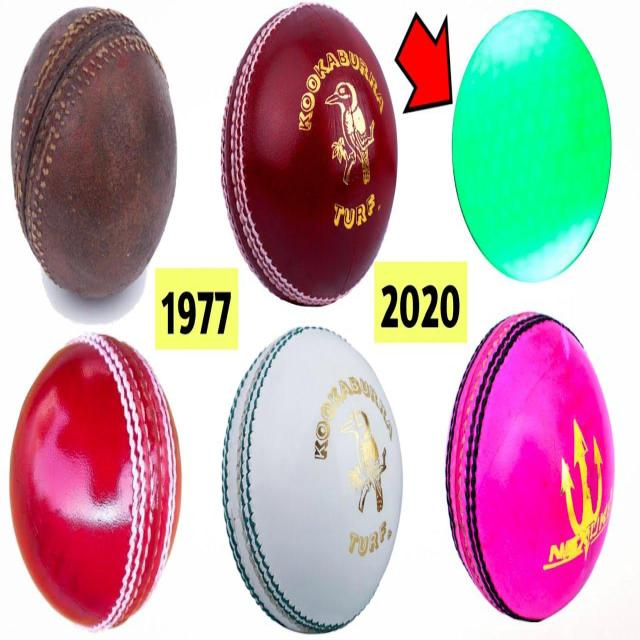ball: (220, 5, 398, 318), (222, 329, 402, 633), (448, 313, 616, 622), (10, 332, 181, 632), (12, 8, 180, 300), (452, 8, 612, 284)
